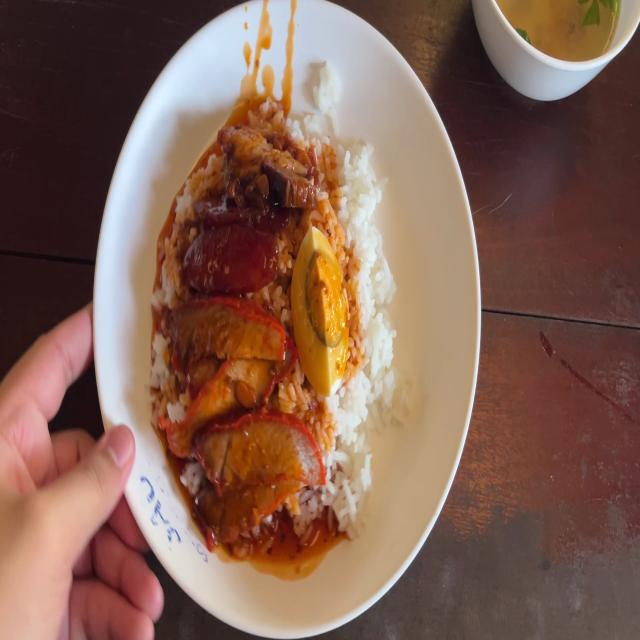01boiled_egg: (297, 250, 351, 390)
01chainese_sausage: (181, 211, 281, 300)
01crispy_pork: (208, 130, 298, 197)
01red_pork: (170, 305, 290, 488), (195, 401, 314, 535)
01red_pork_and_crispy_pork: (165, 112, 393, 513)
01rice: (352, 225, 394, 388), (298, 129, 369, 219), (347, 397, 389, 507)
